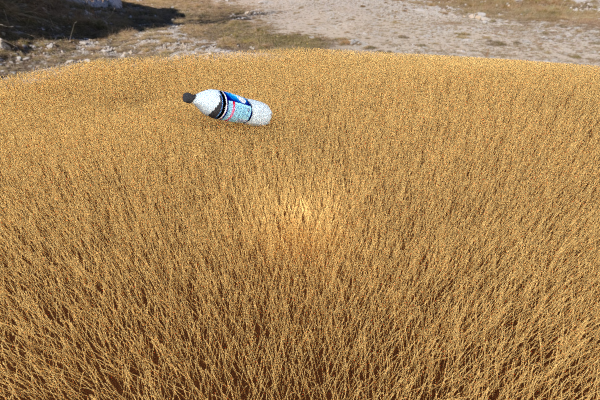Plastic Bottle: (182, 89, 272, 126), (0, 184, 26, 268), (389, 73, 426, 95)
